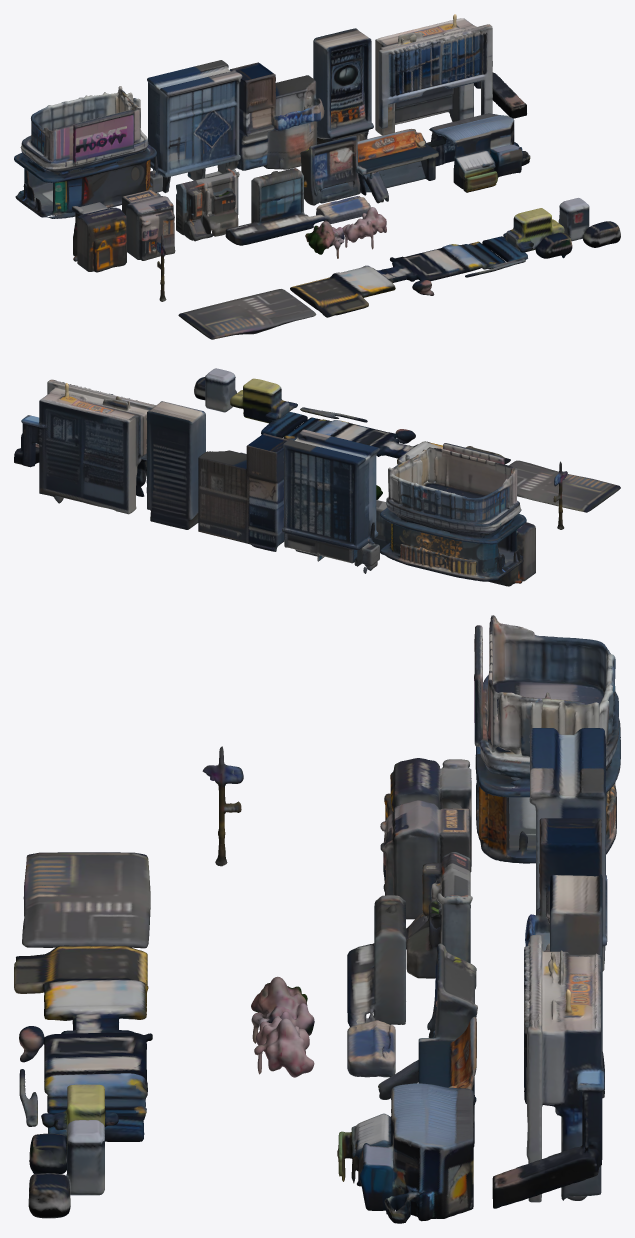
File: city street modular 3d model.glb
3 views of the same model, one above another, from view 1: azimuth 30°, elevation 25°; view 2: azimuth 150°, elevation 25°; view 3: azimuth 270°, elevation 25° (orthographic). The views are drawn at different scales.
Parts seen in each view (by area): view 1: tripo_node_1ae8f417-e9ae-43a0-b242-5bbcf206f97f; view 2: tripo_node_1ae8f417-e9ae-43a0-b242-5bbcf206f97f; view 3: tripo_node_1ae8f417-e9ae-43a0-b242-5bbcf206f97f.
Part boxes in pixels (x1,y1,x2,y2): tripo_node_1ae8f417-e9ae-43a0-b242-5bbcf206f97f: [14, 14, 620, 339]; tripo_node_1ae8f417-e9ae-43a0-b242-5bbcf206f97f: [14, 368, 620, 586]; tripo_node_1ae8f417-e9ae-43a0-b242-5bbcf206f97f: [14, 615, 620, 1223].
Bounding box in the file's own units: 1 × 0.2743 × 0.6098.
Materials: 1 (1 with a texture image).
